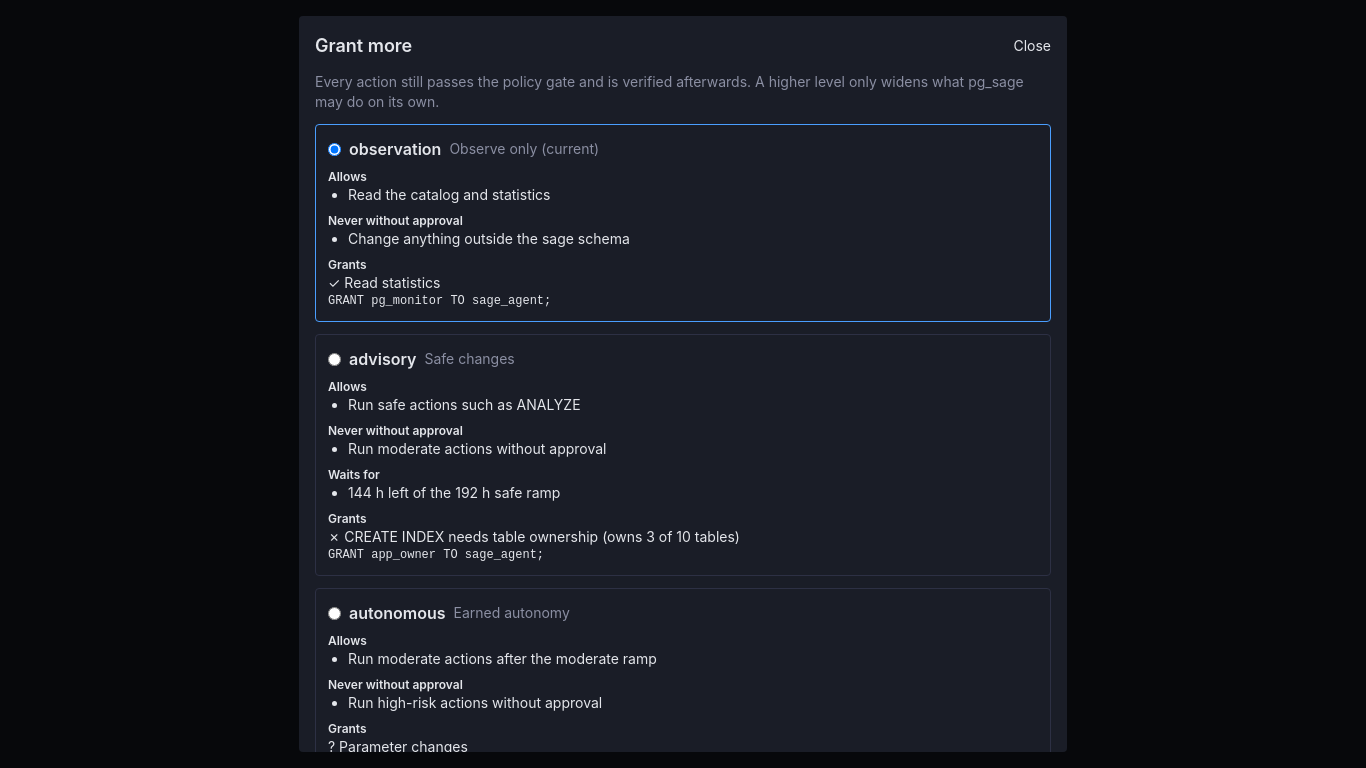
GrantMoreDialog › reports a refused grant
Click the 3rd radio button.
click(334, 613)  # box [328,606,341,620]
(page scrolled)
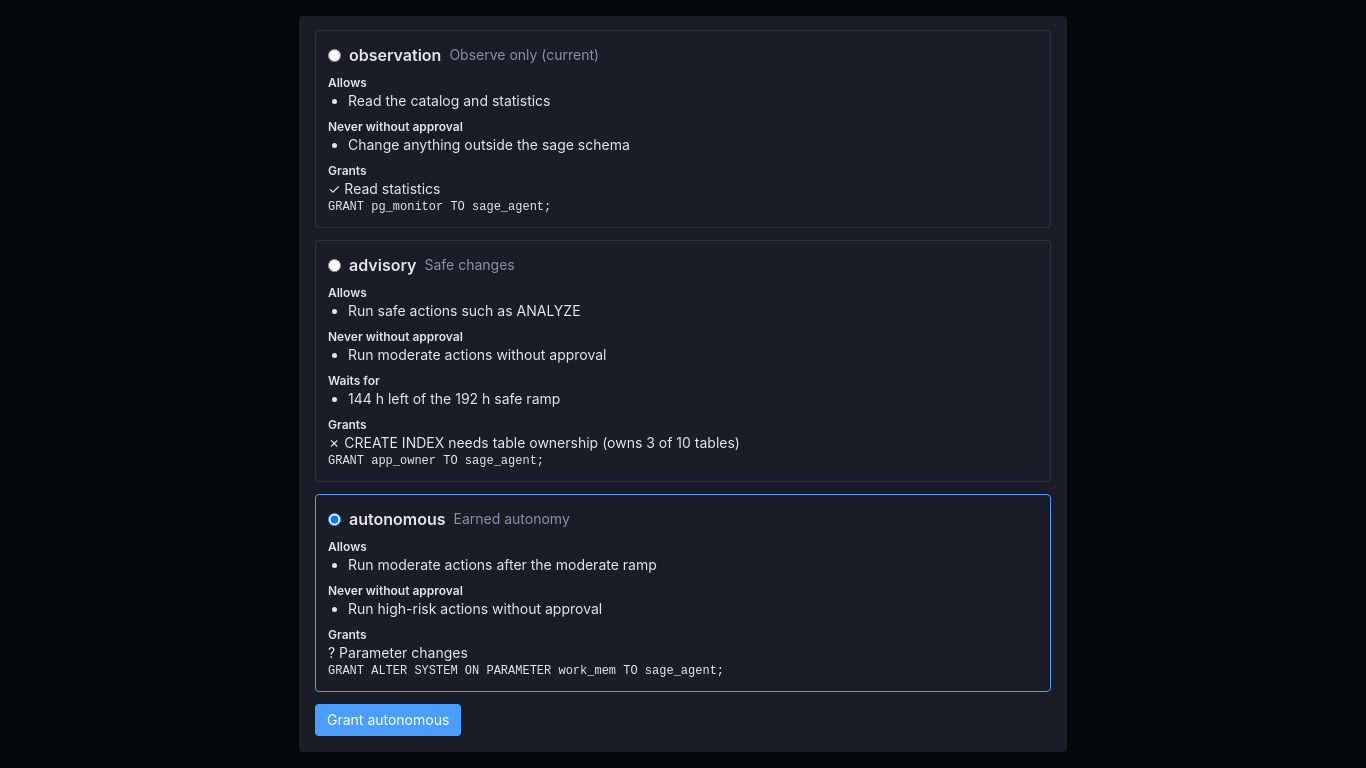
Click the button "Grant autonomous".
click(388, 720)  # box [315,704,461,736]
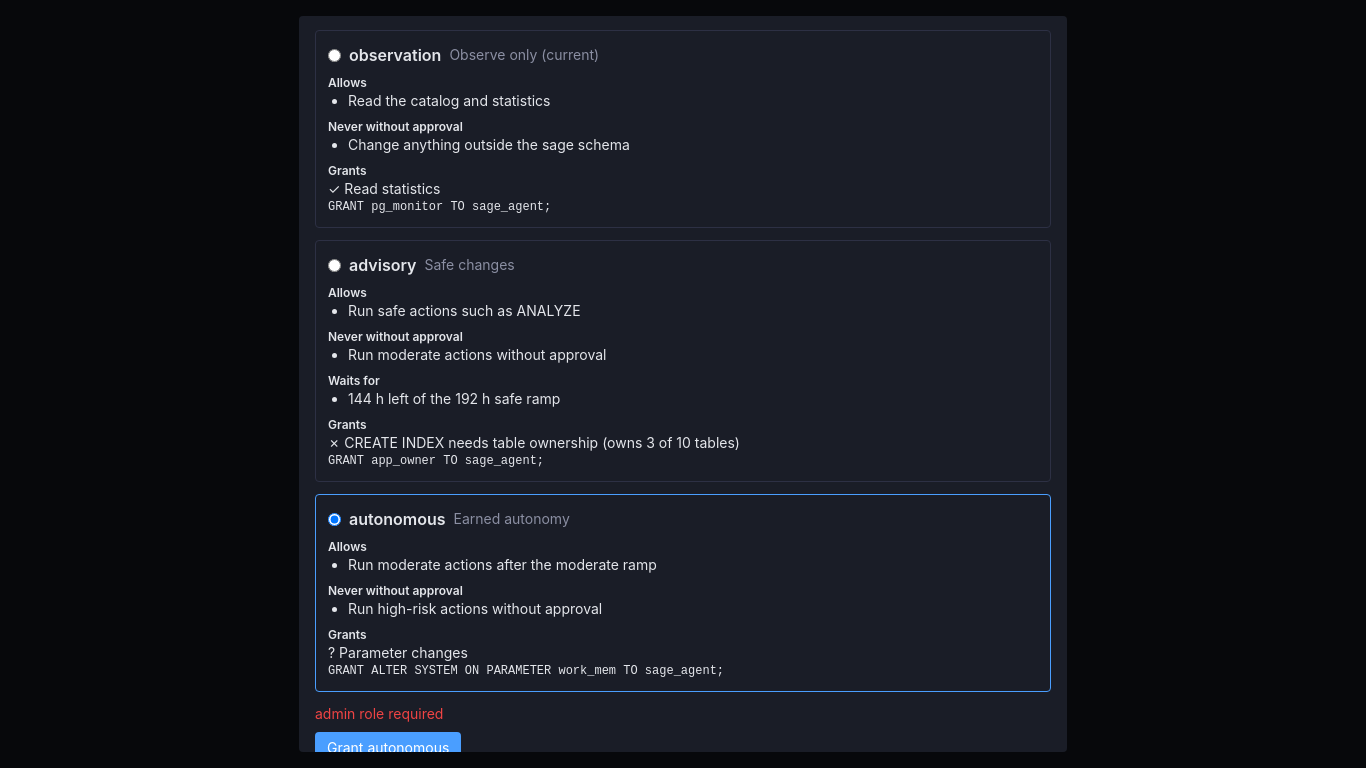
Expected: the message reads "admin role required", [315,705,443,722]
